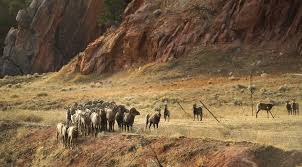sheep: (255, 101, 276, 120), (123, 108, 140, 131), (90, 107, 105, 133), (105, 105, 119, 132), (145, 109, 162, 129), (190, 101, 203, 121), (162, 101, 172, 121), (67, 125, 79, 141), (292, 97, 300, 120), (284, 99, 292, 116)
